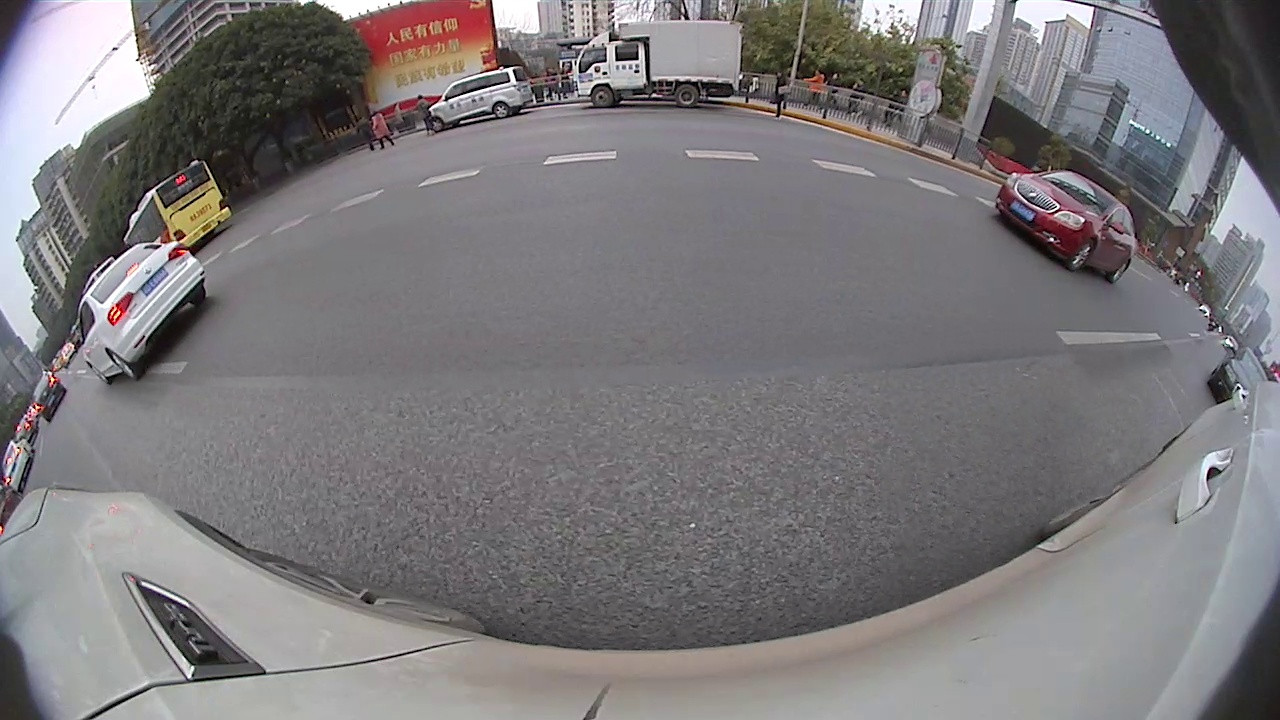bus: (118, 159, 235, 251)
car: (72, 241, 209, 388), (996, 168, 1138, 285), (426, 64, 532, 133), (1208, 344, 1269, 404), (30, 368, 66, 420), (3, 439, 32, 491)
front: (1068, 241, 1096, 270), (87, 363, 112, 386), (591, 87, 614, 109), (429, 117, 443, 133)
person: (415, 93, 429, 139), (371, 111, 384, 152), (357, 114, 369, 152)
rear: (105, 351, 141, 381), (677, 84, 699, 109), (1110, 259, 1131, 284), (492, 101, 512, 119)
truck: (575, 19, 744, 109)
